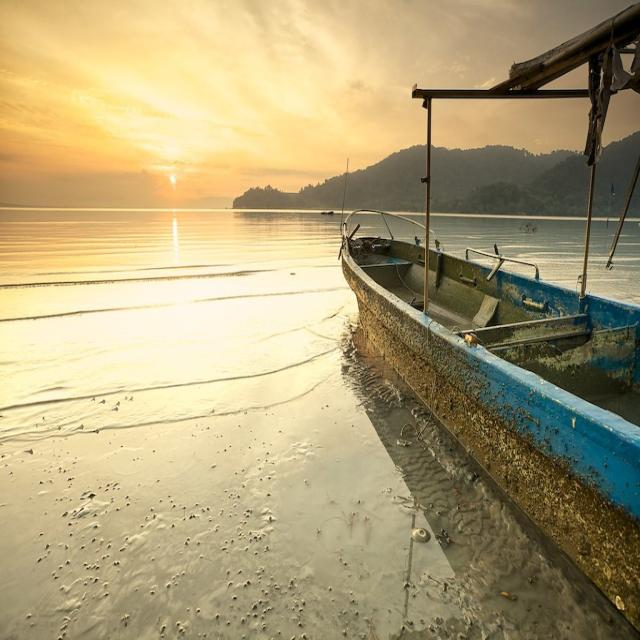Boat: (306, 62, 640, 560)
